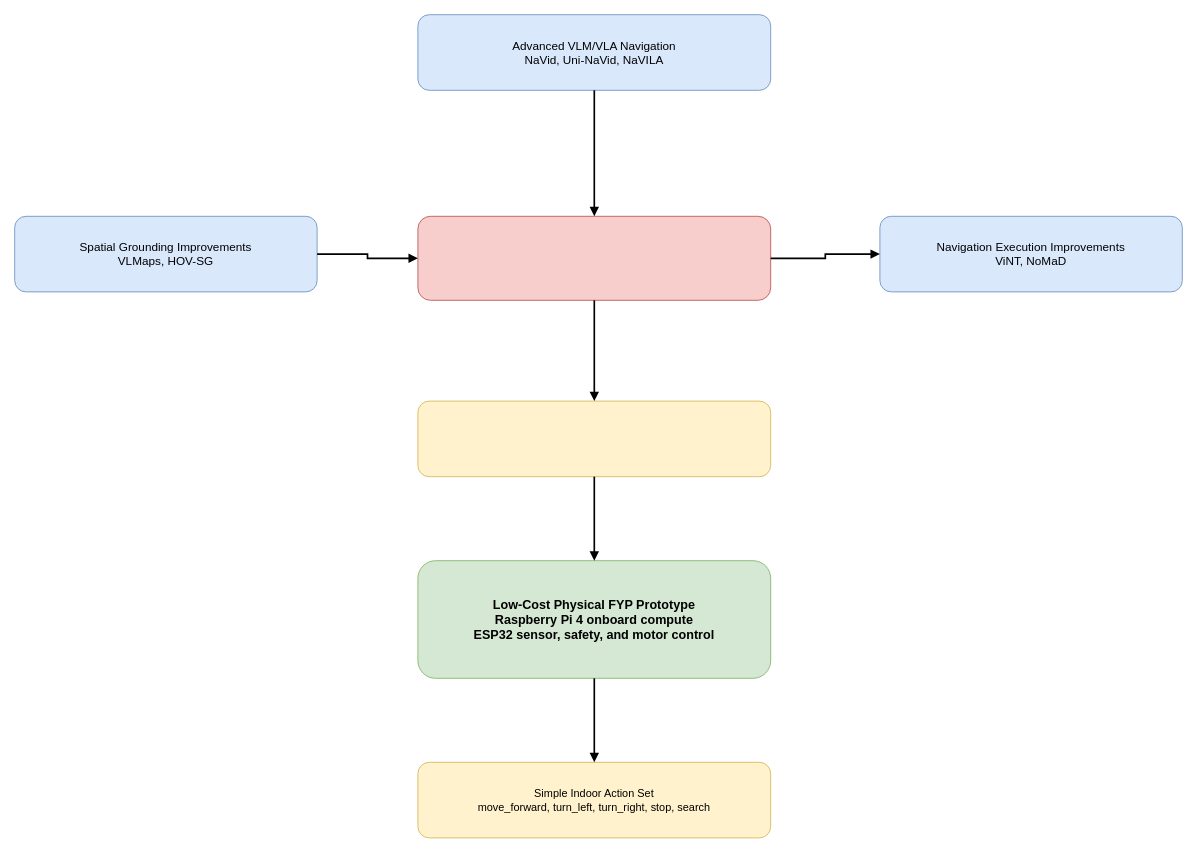
The diagram is 1197 pixels wide and 853 high, and some of its shapes have lost their labels. The centre of each missing label's shape, as x and y in pixels:
"LM-Nav Baseline Architecture Language -> Visual Grounding -> Execution" belongs at pixel 594 257.
"Prompt-Based Action Selection VLMnav" belongs at pixel 594 438.
